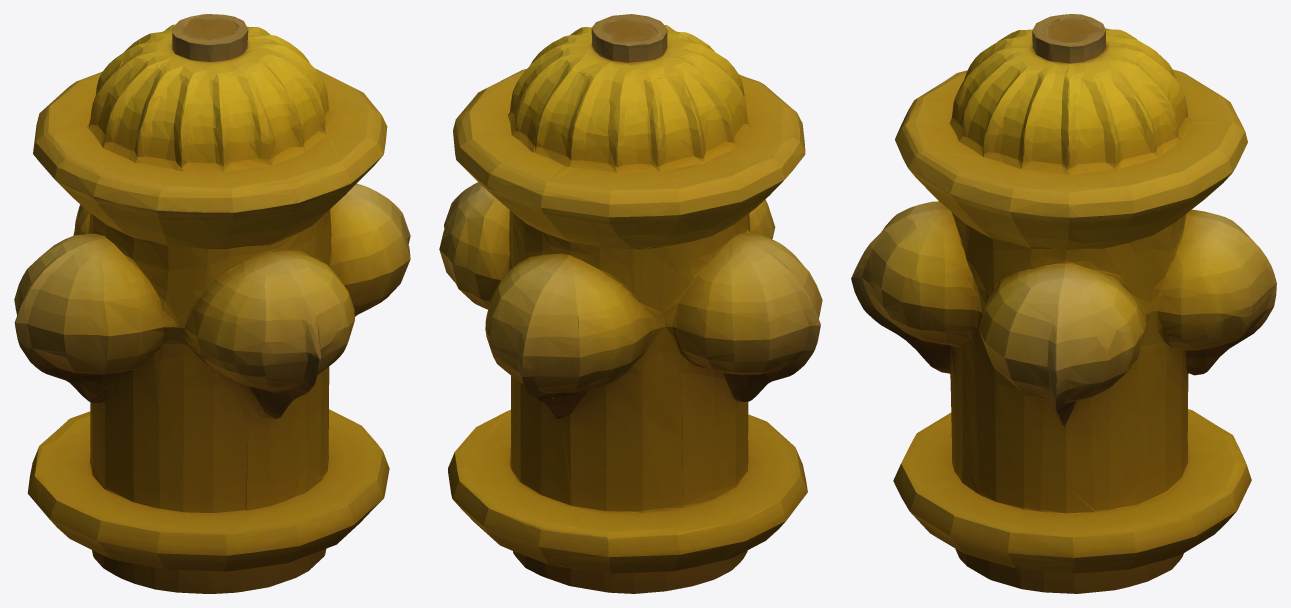
The model's file is fire_hydrant_yellow.glb.
3 views of the same model, side by side, from view 1: azimuth 30°, elevation 25°; view 2: azimuth 150°, elevation 25°; view 3: azimuth 270°, elevation 25° (orthographic).
Visible parts, largest first — view 1: geometry_0; view 2: geometry_0; view 3: geometry_0.
Boxes of the visible parts, x1=… form: geometry_0: x1=14, y1=14, x2=410, y2=593; geometry_0: x1=439, y1=14, x2=822, y2=593; geometry_0: x1=851, y1=14, x2=1276, y2=593.
Bounding box in the file's own units: 0.7843 × 0.9997 × 0.7511.
Materials: 1 (1 with a texture image).
